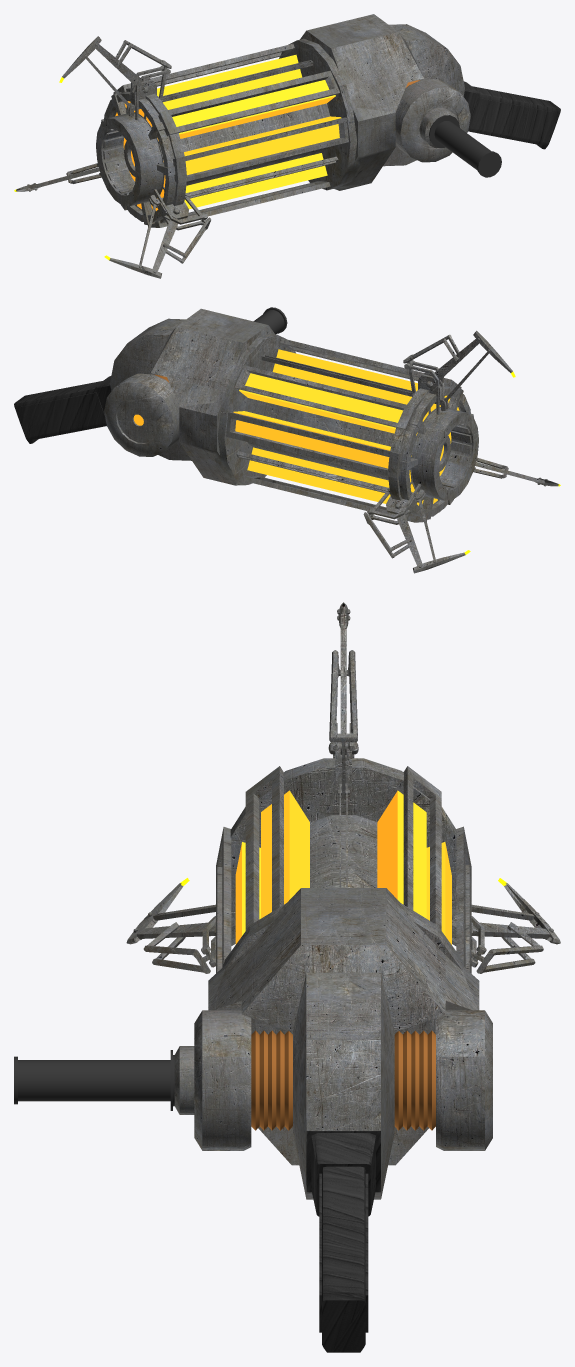
File: gravity_gun.gltf
3 views of the same model, one above another, from view 1: azimuth 30°, elevation 25°; view 2: azimuth 150°, elevation 25°; view 3: azimuth 270°, elevation 25° (orthographic). The views are drawn at different scales.
Visible parts, largest first — view 1: Object_18, Object_10, Object_14, Object_16; view 2: Object_18, Object_10, Object_14, Object_16, Object_12; view 3: Object_18, Object_14, Object_10, Object_8, Object_16.
Part boxes in pixels (<box>): Object_18: <box>16,14,470,278</box>; Object_10: <box>157,54,341,209</box>; Object_14: <box>463,81,560,149</box>; Object_16: <box>429,115,501,177</box>; Object_18: <box>104,308,558,573</box>; Object_10: <box>233,349,417,503</box>; Object_14: <box>14,376,111,443</box>; Object_16: <box>253,307,287,334</box>; Object_12: <box>133,395,459,505</box>; Object_18: <box>126,602,560,1199</box>; Object_14: <box>306,1131,380,1352</box>; Object_10: <box>235,790,451,944</box>; Object_8: <box>251,1030,435,1130</box>; Object_16: <box>14,1050,174,1110</box>.
Bounding box in the file's own units: 1.13 × 0.4755 × 0.625.
Materials: 7 (2 with a texture image).
